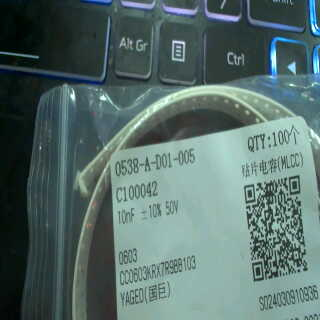10nF: (116, 205, 138, 228)
